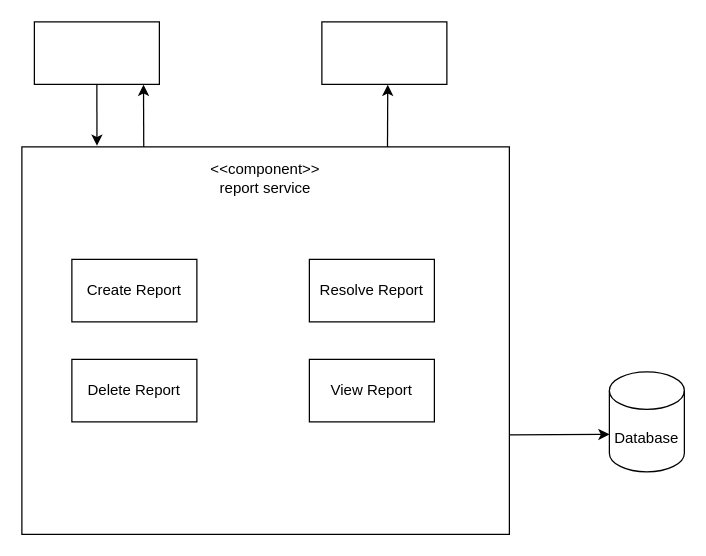
Image size: 706x556. Some labels were removed from this diagram. Here are the shapes that lost their labels. From the top down, the centre of each, then its label:
At (x=96, y=52): "User".
At (x=384, y=52): "Listing".
